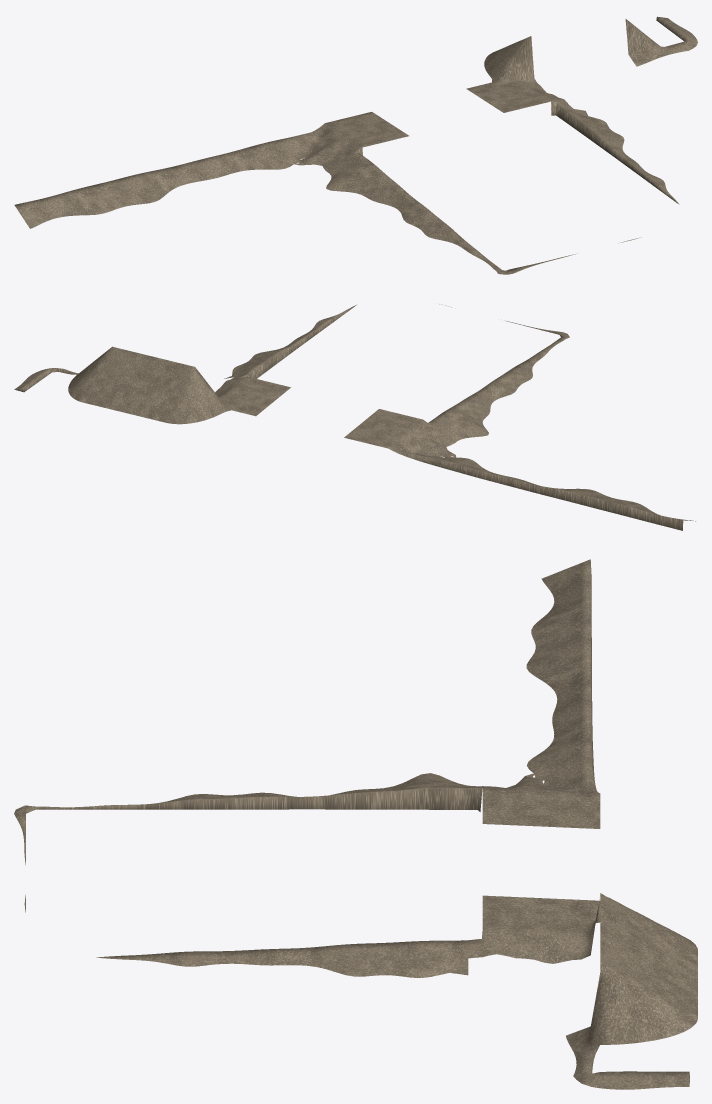
File: SM_SubstationField_ApronGrade.glb
The picture shows the model from 3 angles, top to bottom: view 1: azimuth 30°, elevation 25°; view 2: azimuth 150°, elevation 25°; view 3: azimuth 270°, elevation 25°; orthographic projection. The views are drawn at different scales.
Visible parts, largest first — view 1: SM_SubstationField_ApronGrade; view 2: SM_SubstationField_ApronGrade; view 3: SM_SubstationField_ApronGrade.
Boxes of the visible parts, x1,y1,x2,y2 form: SM_SubstationField_ApronGrade: (14, 16, 697, 274); SM_SubstationField_ApronGrade: (14, 304, 695, 530); SM_SubstationField_ApronGrade: (14, 559, 697, 1089).
Size of the model in its own units: 13.17 by 0.9589 by 7.27.
1 material, 1 textured.
